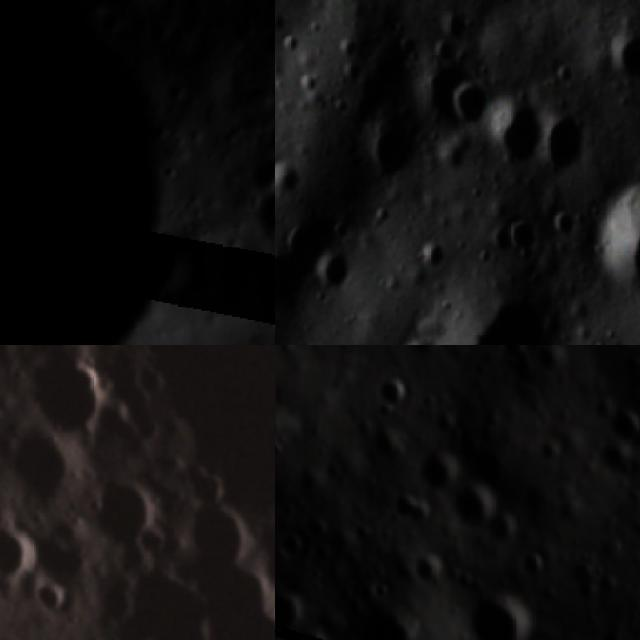crater: (82, 345, 275, 569), (9, 345, 132, 459), (64, 448, 179, 568), (154, 480, 269, 598), (0, 400, 102, 526), (443, 286, 568, 345), (0, 496, 57, 607), (596, 171, 640, 314), (19, 562, 87, 630), (468, 588, 542, 640), (533, 110, 585, 180), (491, 102, 542, 166), (275, 249, 313, 318), (368, 122, 415, 176), (447, 81, 493, 133), (452, 484, 503, 528), (315, 252, 351, 310), (418, 448, 464, 493), (605, 30, 640, 89), (362, 614, 433, 640), (503, 220, 539, 265), (378, 372, 414, 412), (275, 153, 305, 197), (487, 512, 523, 548), (275, 588, 302, 629), (276, 531, 310, 563), (611, 407, 640, 444), (521, 551, 552, 580), (294, 627, 337, 640), (354, 524, 376, 544), (518, 632, 553, 640)
